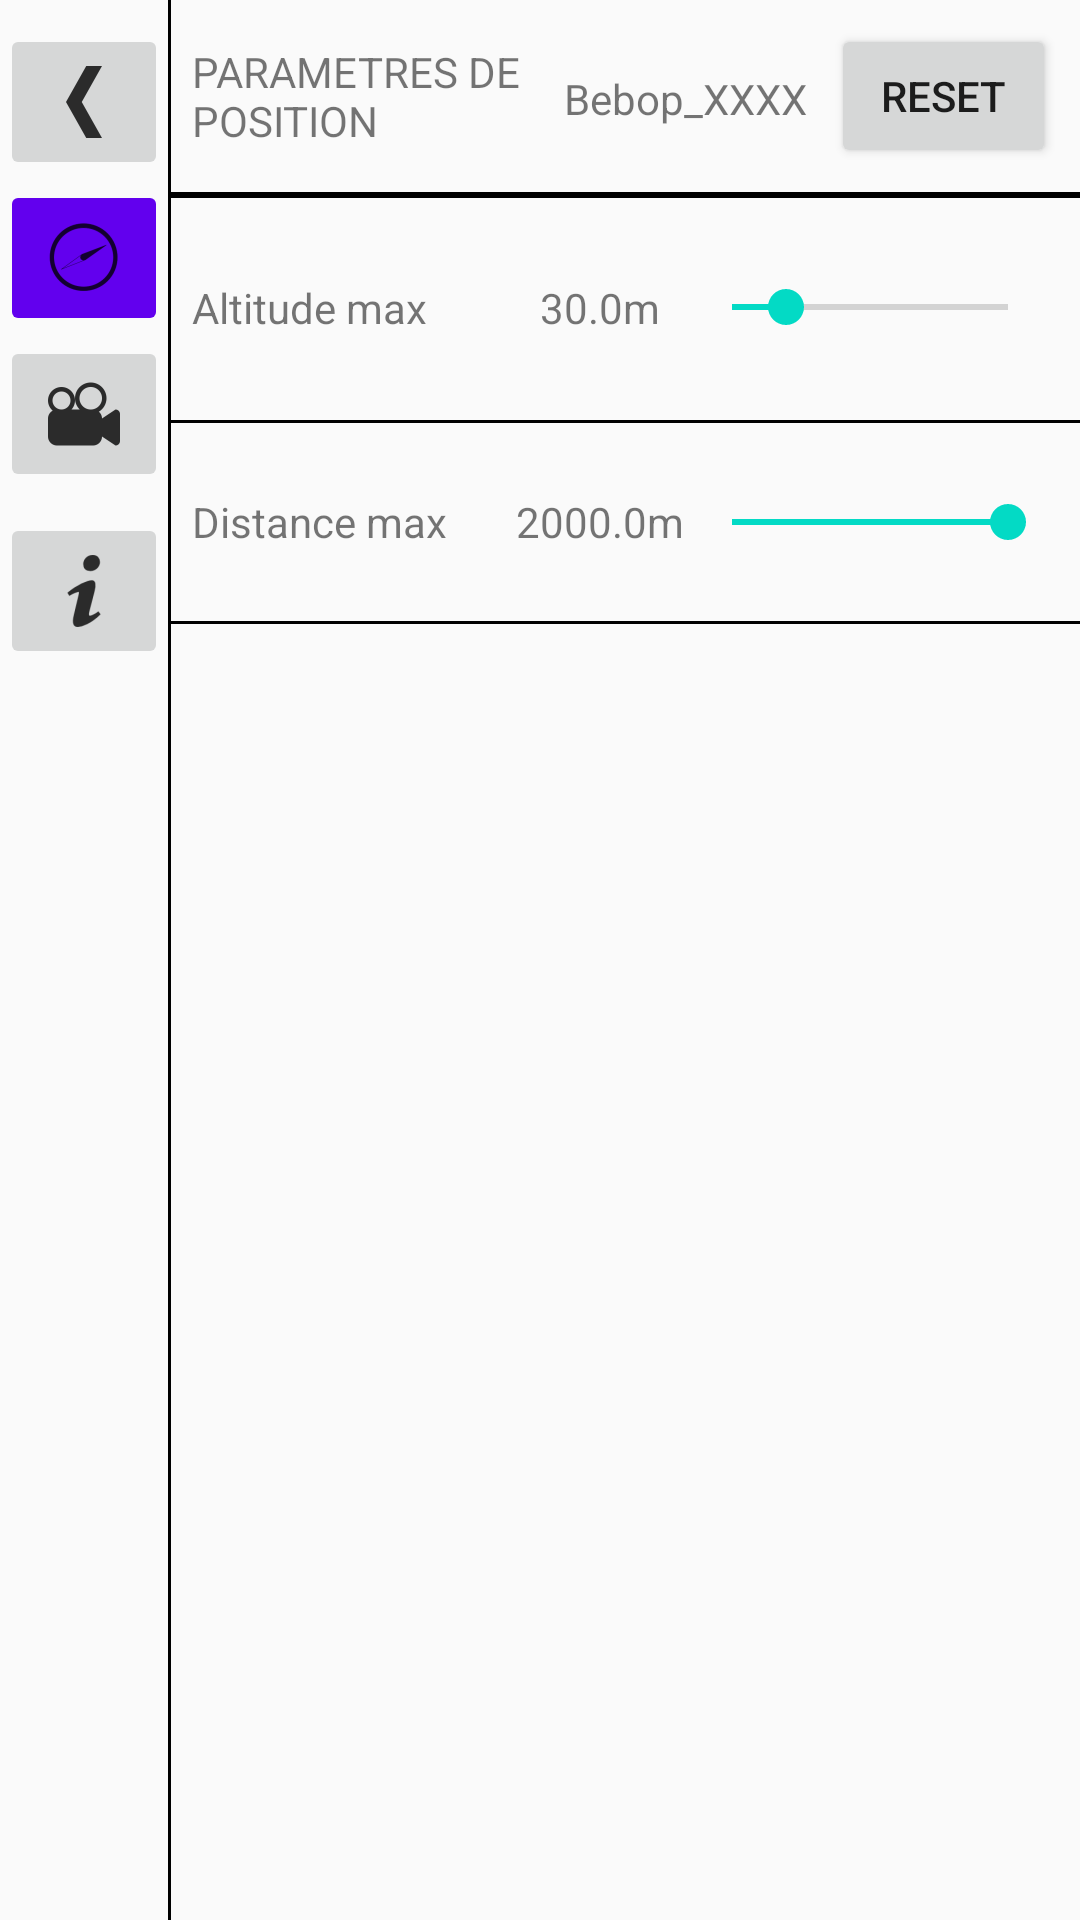

Named icons in this screenshot (1080w x 1920h) and their centers, (x,y):
bouton retour: (84,102)
